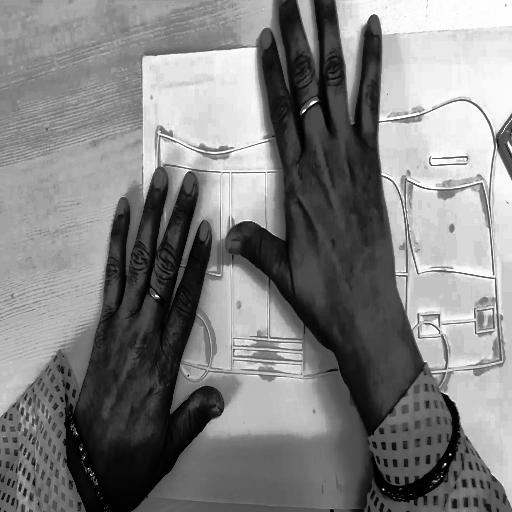bus: (152, 76, 511, 414)
top_left: (141, 50, 149, 65)
